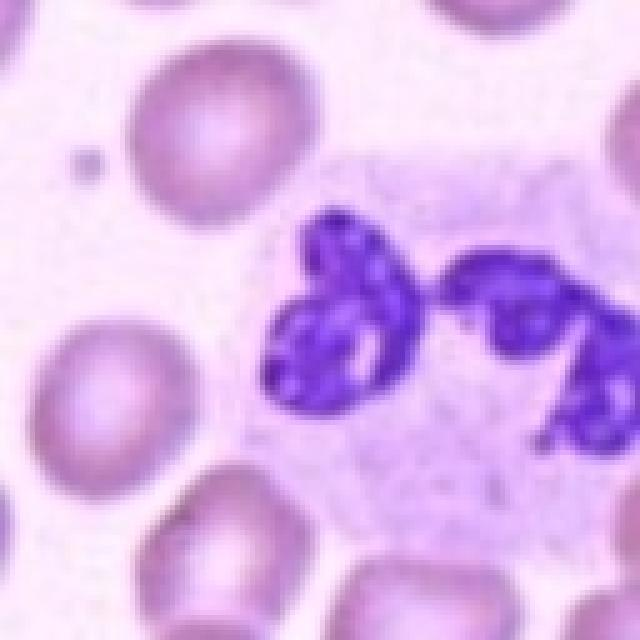neutro: (97, 31, 622, 537)
